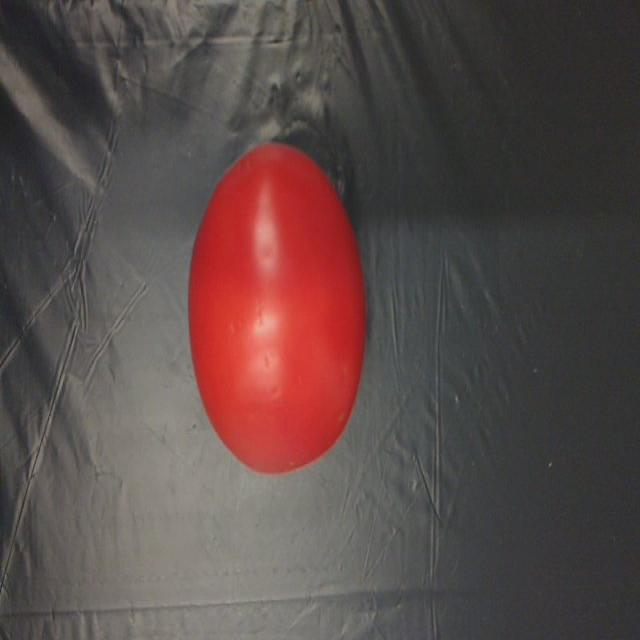kirmizi: (173, 139, 364, 474)
